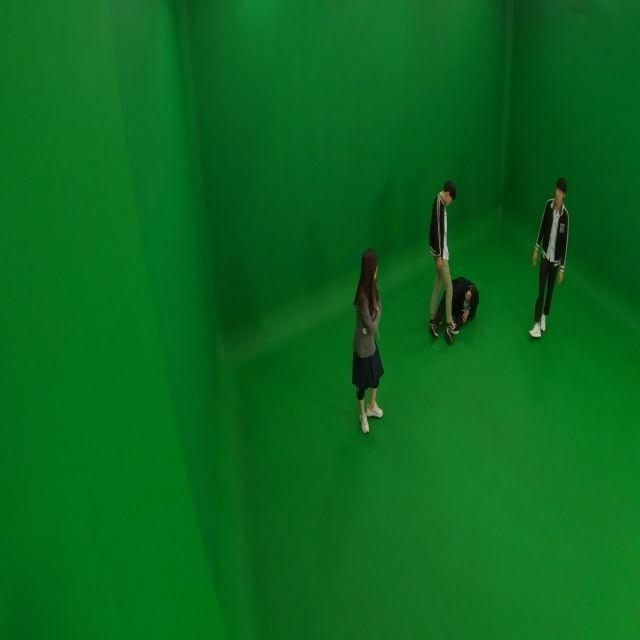fight: (424, 178, 480, 343)
non-fight: (348, 251, 388, 433), (527, 176, 570, 337)
